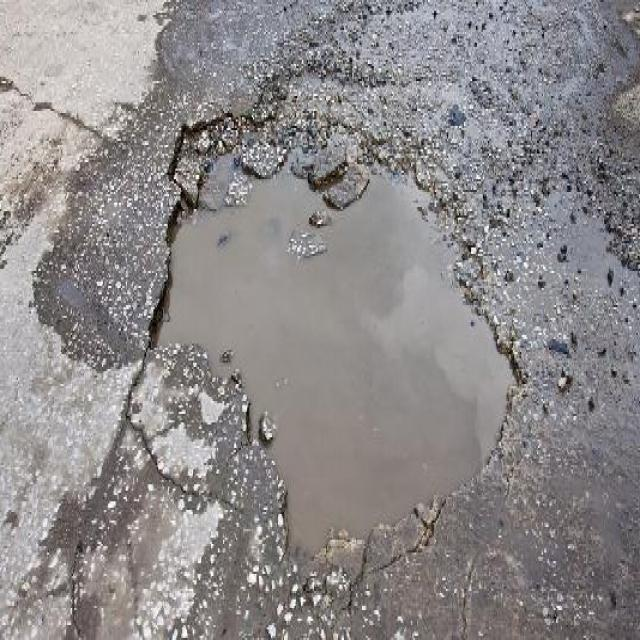pothole: (145, 107, 529, 568)
